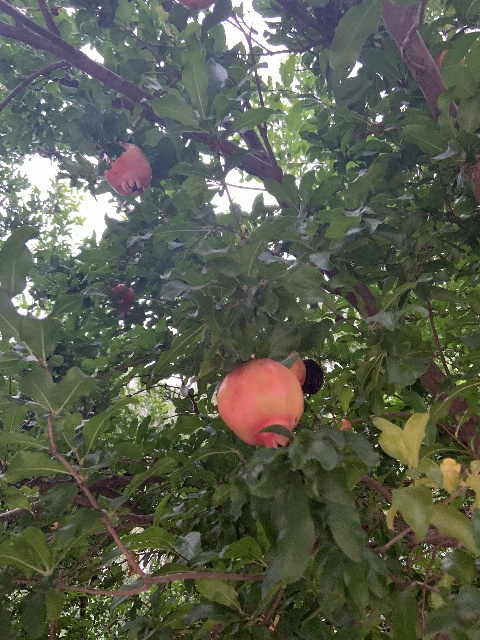ripe: (216, 358, 303, 449), (104, 143, 151, 196), (111, 283, 136, 317)
